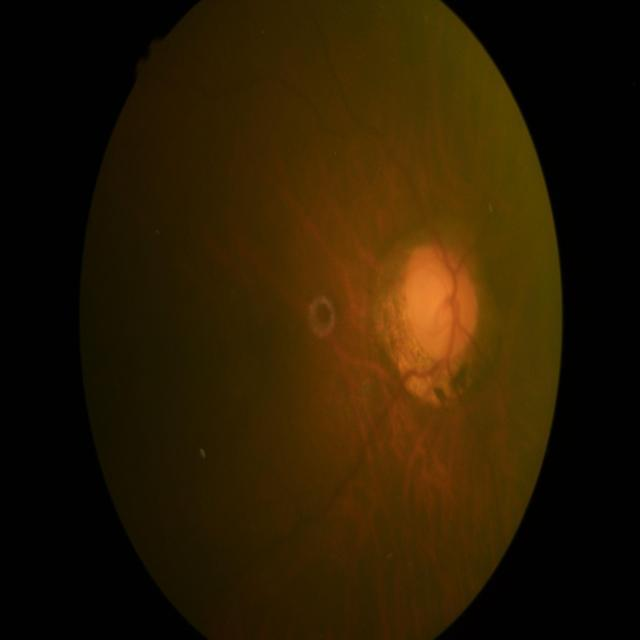cup: (414, 264, 461, 354)
disk: (404, 245, 479, 364)
